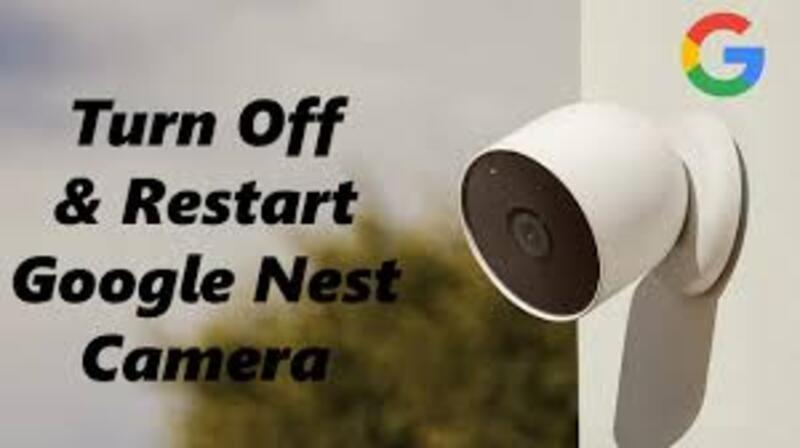nest: (466, 87, 691, 328)
